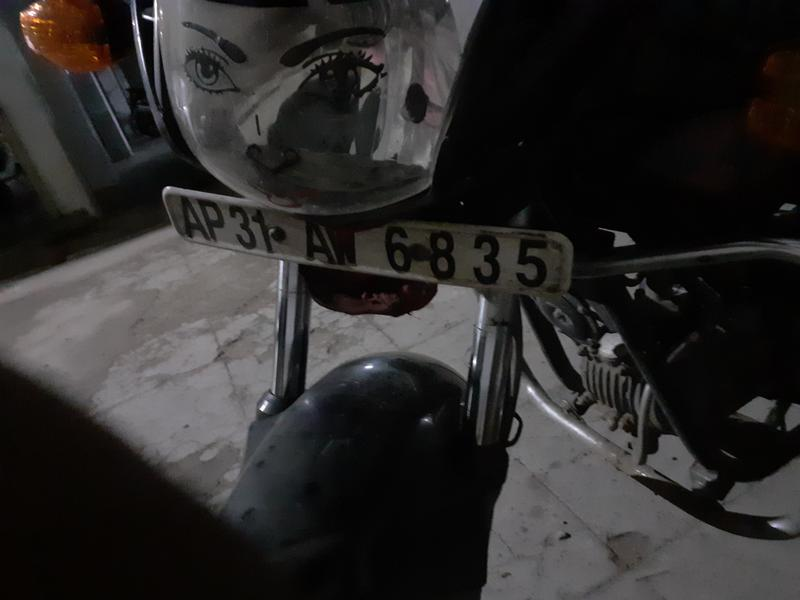numberplate: (144, 184, 588, 310)
